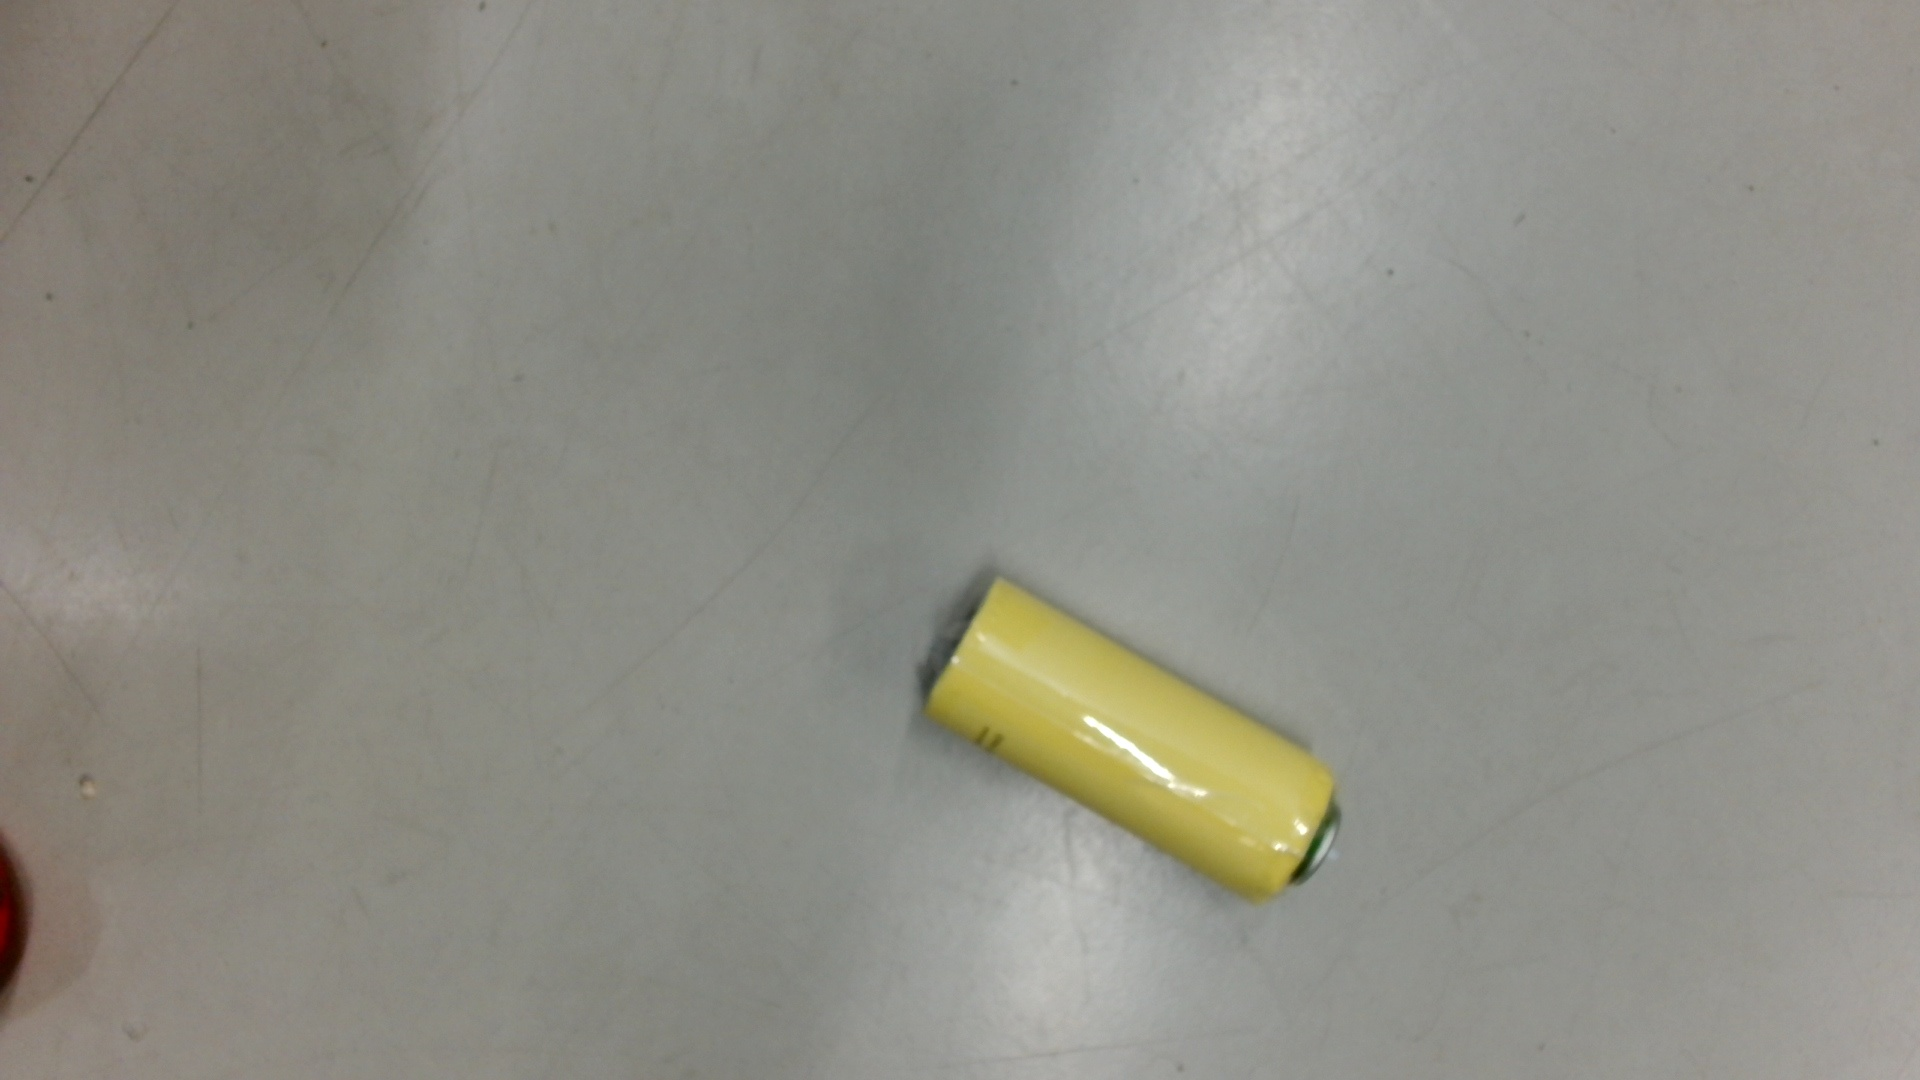Cylinder: (906, 566, 1361, 916)
